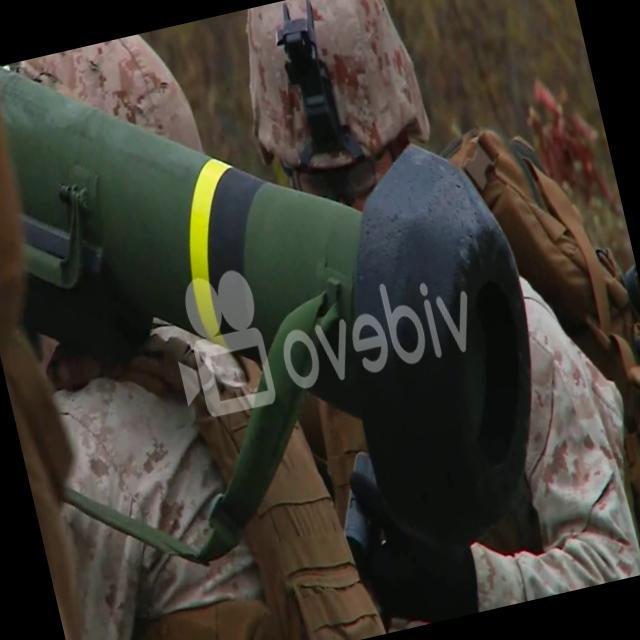rocket: (0, 0, 573, 613)
